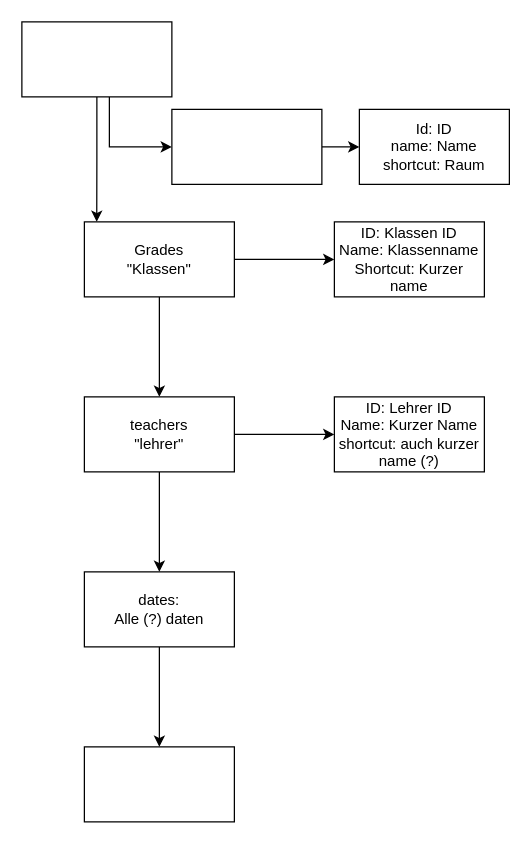
Some shapes in this 531 by 844 pixel diagram are drawn without their labels. Here are the shapes that lost their labels. From the top down, the box of each, then its label:
(21, 21, 172, 97): Deutsch 23196603
(171, 108, 322, 184): Bookables "template" stunde
(83, 746, 234, 822): ID: Fach ID
